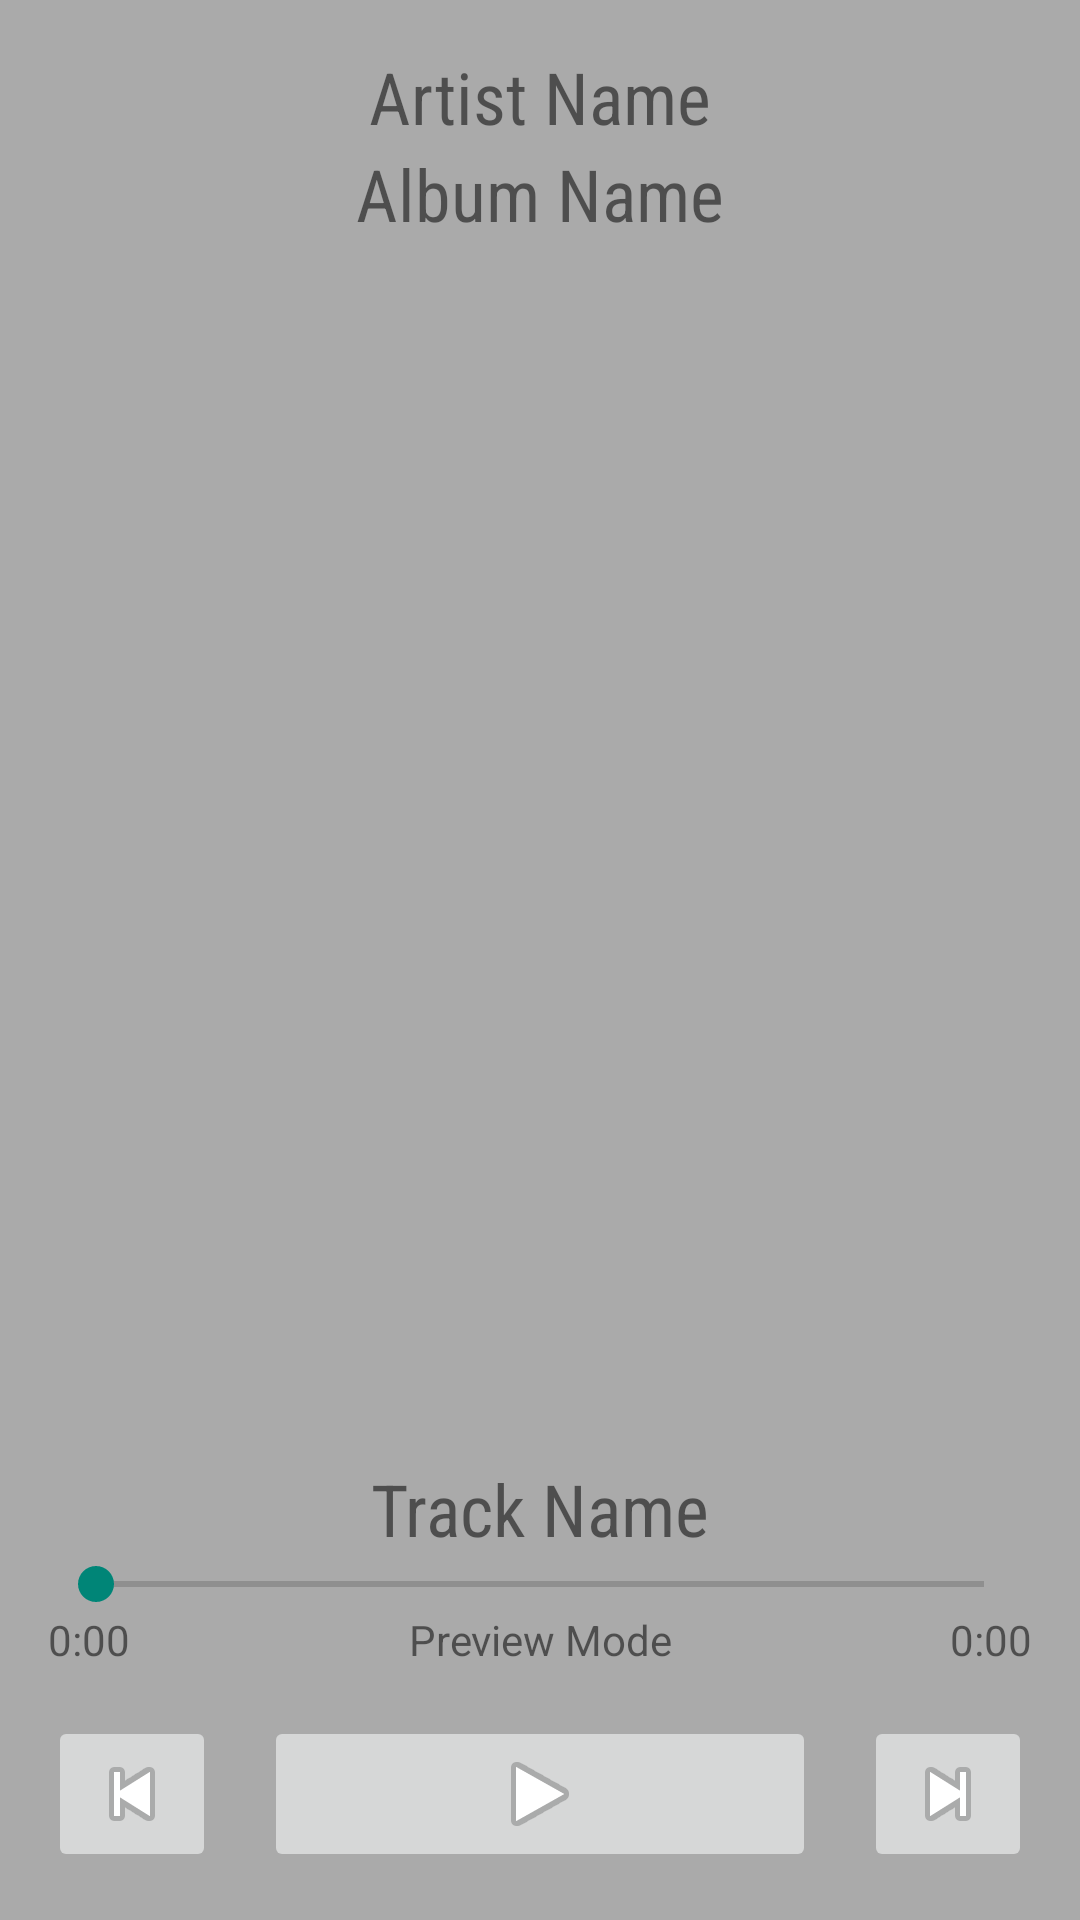

Locate icon controls on the screen. Image size 1080x1920, boxes as (x1,y1,x2,y2).
Next: (876,1734,1020,1854)
Previous: (60,1734,204,1854)
